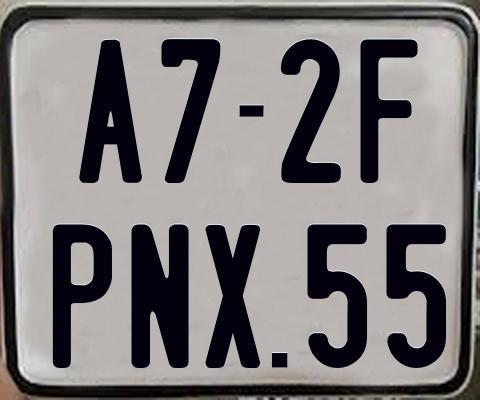2: (279, 38, 343, 186)
5: (385, 224, 446, 370), (305, 221, 365, 367)
7: (159, 36, 219, 183)
A: (79, 38, 145, 187)
F: (357, 36, 416, 184)
N: (130, 222, 188, 367)
P: (52, 221, 112, 368)
X: (202, 224, 259, 370)
